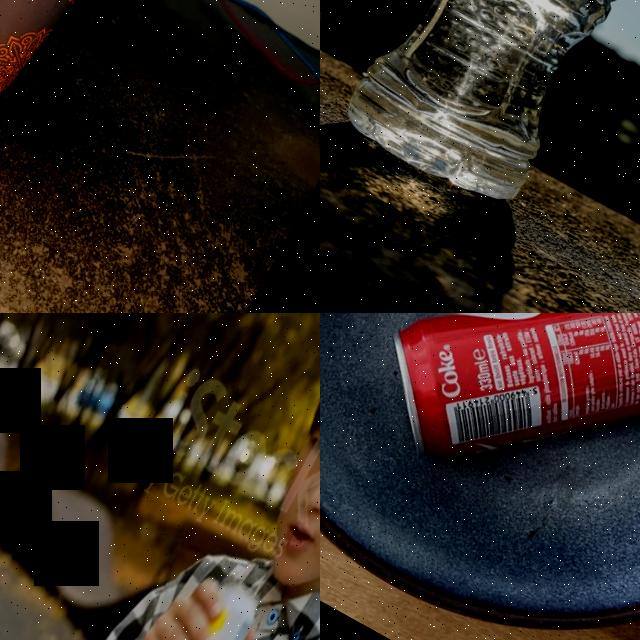bottle: (332, 0, 640, 218)
can: (344, 313, 640, 581), (137, 567, 274, 640)
cup: (0, 0, 114, 142)
